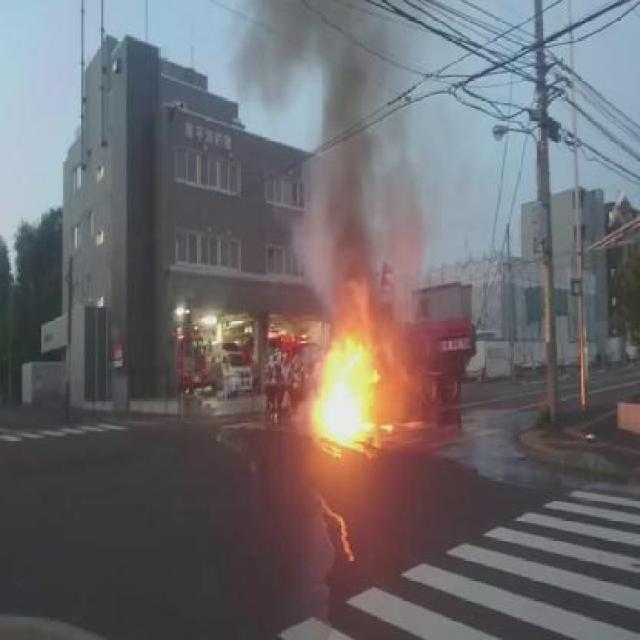Fire: (314, 349, 384, 451), (340, 270, 378, 346)
Smoke: (328, 63, 383, 277), (260, 0, 388, 69)
